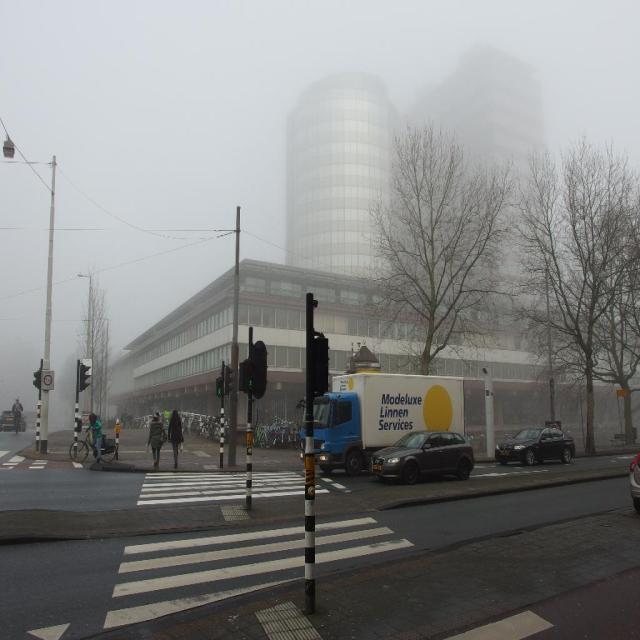traffic light: (243, 362, 256, 389), (80, 361, 90, 390), (216, 378, 225, 396), (33, 372, 43, 387)
